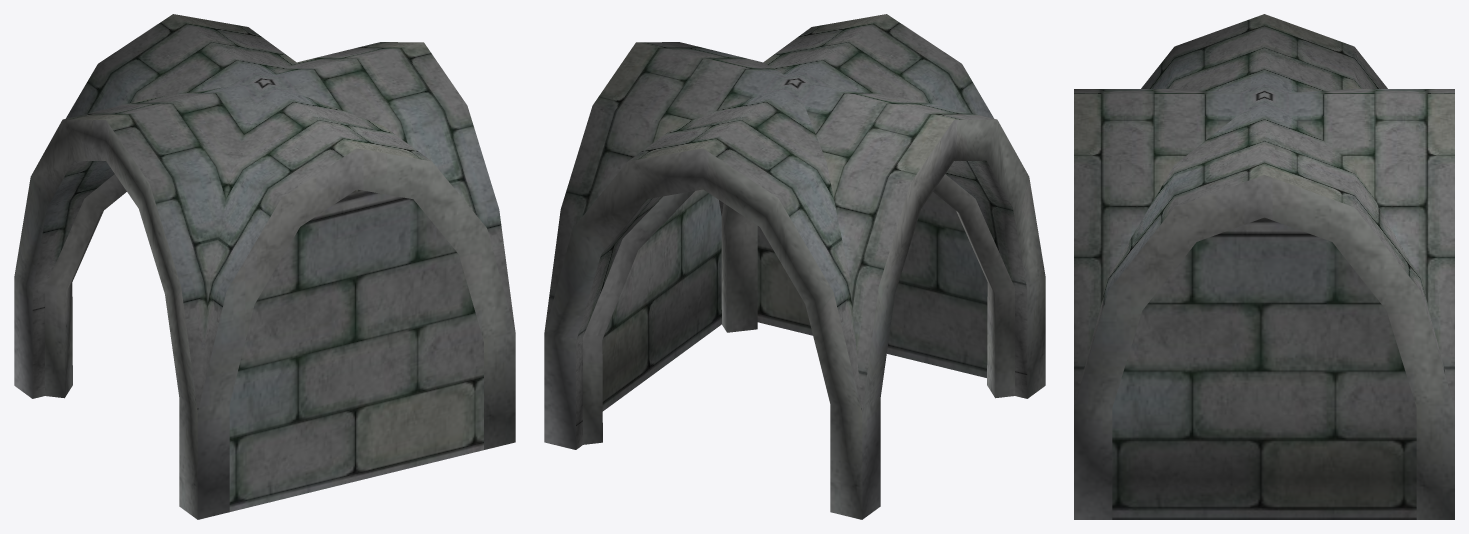
Rendered from vault_ceiling_small_04.glb.
3 renders of one model, left to right at view 1: azimuth 30°, elevation 25°; view 2: azimuth 150°, elevation 25°; view 3: azimuth 270°, elevation 25°, orthographic. The views are drawn at different scales.
Parts seen in each view (by area): view 1: vault_ceiling_small_04; view 2: vault_ceiling_small_04; view 3: vault_ceiling_small_04.
Part boxes in pixels (box(x1,y1,x2,y2)): vault_ceiling_small_04: box(14, 14, 515, 519); vault_ceiling_small_04: box(544, 14, 1045, 519); vault_ceiling_small_04: box(1074, 14, 1454, 519).
Size of the model in its own units: 2 by 2 by 2.
Materials: 1 (1 with a texture image).
